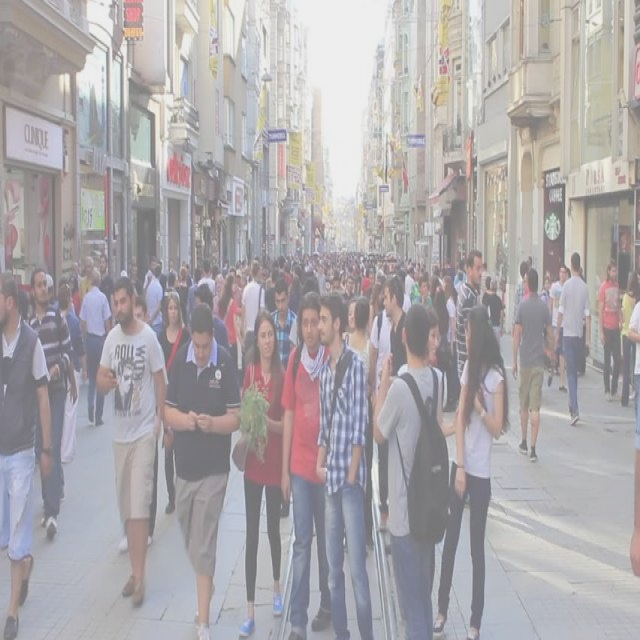pessoa: (159, 297, 244, 639), (429, 298, 513, 638), (370, 298, 452, 638), (95, 273, 166, 611), (314, 288, 379, 639), (0, 265, 57, 639), (280, 288, 334, 639), (237, 308, 288, 639), (116, 291, 170, 554), (26, 268, 74, 536), (387, 306, 468, 438), (510, 262, 559, 462), (344, 296, 376, 552), (157, 288, 191, 515), (556, 251, 592, 428), (78, 264, 114, 427), (56, 288, 88, 470), (596, 255, 626, 404), (455, 248, 483, 378), (266, 276, 300, 372), (216, 274, 246, 372), (191, 281, 230, 356), (382, 274, 410, 378), (382, 272, 409, 379), (618, 269, 638, 408), (547, 264, 568, 394), (442, 274, 460, 414), (240, 260, 266, 351), (432, 286, 450, 414), (342, 296, 372, 368), (628, 406, 640, 584), (624, 275, 640, 408), (508, 258, 530, 342), (144, 262, 164, 344), (54, 282, 76, 350), (576, 264, 588, 378), (485, 277, 504, 343), (96, 251, 115, 316), (141, 253, 158, 320), (185, 266, 203, 326), (367, 281, 385, 336), (76, 256, 95, 306), (393, 268, 412, 315), (54, 274, 76, 314), (161, 270, 181, 314), (196, 258, 216, 296), (54, 282, 74, 318), (264, 266, 280, 310), (16, 285, 34, 324), (228, 265, 244, 308), (414, 276, 434, 310), (176, 264, 188, 320), (327, 246, 357, 268), (478, 261, 492, 307), (288, 273, 302, 316), (425, 276, 442, 310), (480, 274, 492, 322), (68, 274, 81, 316), (211, 272, 228, 303), (128, 254, 143, 288), (404, 266, 416, 306), (539, 273, 553, 307), (498, 272, 506, 330), (328, 268, 347, 292), (45, 270, 56, 310), (316, 262, 328, 298), (373, 250, 385, 286), (70, 258, 85, 286), (301, 268, 316, 296), (258, 262, 273, 290), (340, 298, 350, 338), (235, 256, 243, 304), (342, 273, 356, 300), (520, 269, 532, 300), (356, 248, 374, 268), (302, 248, 320, 268), (164, 257, 179, 280), (453, 261, 466, 287), (408, 277, 421, 303), (360, 268, 372, 296), (279, 249, 302, 263), (360, 280, 372, 306), (384, 256, 396, 281), (444, 256, 456, 280), (454, 272, 466, 296), (278, 262, 302, 274), (242, 256, 250, 290), (627, 385, 639, 407), (544, 260, 556, 279), (258, 289, 268, 311), (395, 254, 402, 284), (221, 256, 230, 279), (412, 262, 424, 278), (211, 260, 221, 279), (101, 276, 109, 299), (318, 249, 327, 268), (142, 270, 148, 298), (158, 272, 167, 290), (70, 296, 78, 315), (131, 288, 139, 307), (110, 313, 120, 328), (109, 290, 115, 314), (120, 266, 130, 280), (402, 254, 412, 268), (248, 255, 268, 262), (432, 264, 444, 275), (181, 258, 190, 272), (156, 257, 164, 272), (323, 268, 328, 292), (268, 254, 280, 264), (524, 254, 532, 268), (565, 266, 572, 282), (402, 268, 409, 284), (462, 256, 468, 274), (315, 276, 321, 294), (186, 273, 193, 288), (353, 277, 360, 292), (147, 272, 153, 288), (346, 266, 354, 278), (636, 264, 640, 287), (358, 268, 366, 279), (248, 261, 252, 283), (176, 270, 180, 290), (353, 266, 359, 278), (440, 274, 444, 290), (368, 268, 373, 280), (368, 236, 373, 248), (297, 273, 302, 284), (272, 262, 280, 268), (580, 265, 584, 272), (424, 270, 426, 282), (316, 266, 318, 278), (426, 270, 429, 274)
